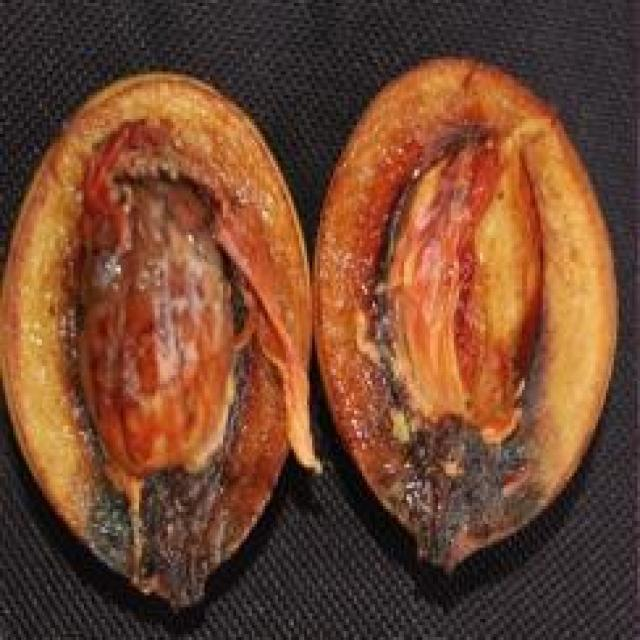damaged: (0, 71, 323, 616), (312, 60, 619, 580)
